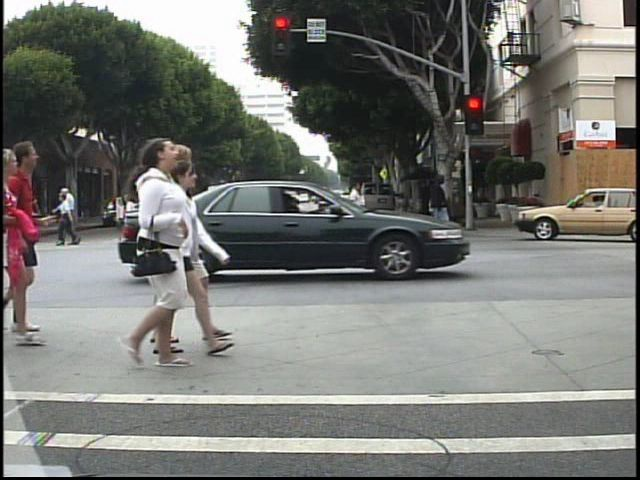person: (112, 138, 207, 379), (150, 157, 215, 367), (166, 146, 231, 351), (418, 168, 453, 240), (343, 177, 370, 241), (56, 191, 85, 246), (172, 186, 195, 249), (60, 183, 80, 247), (227, 182, 249, 240), (348, 187, 363, 223)
